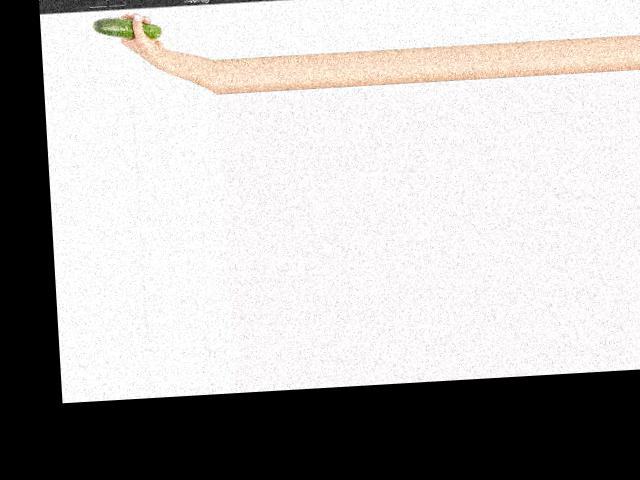cucumber: (91, 14, 161, 42)
